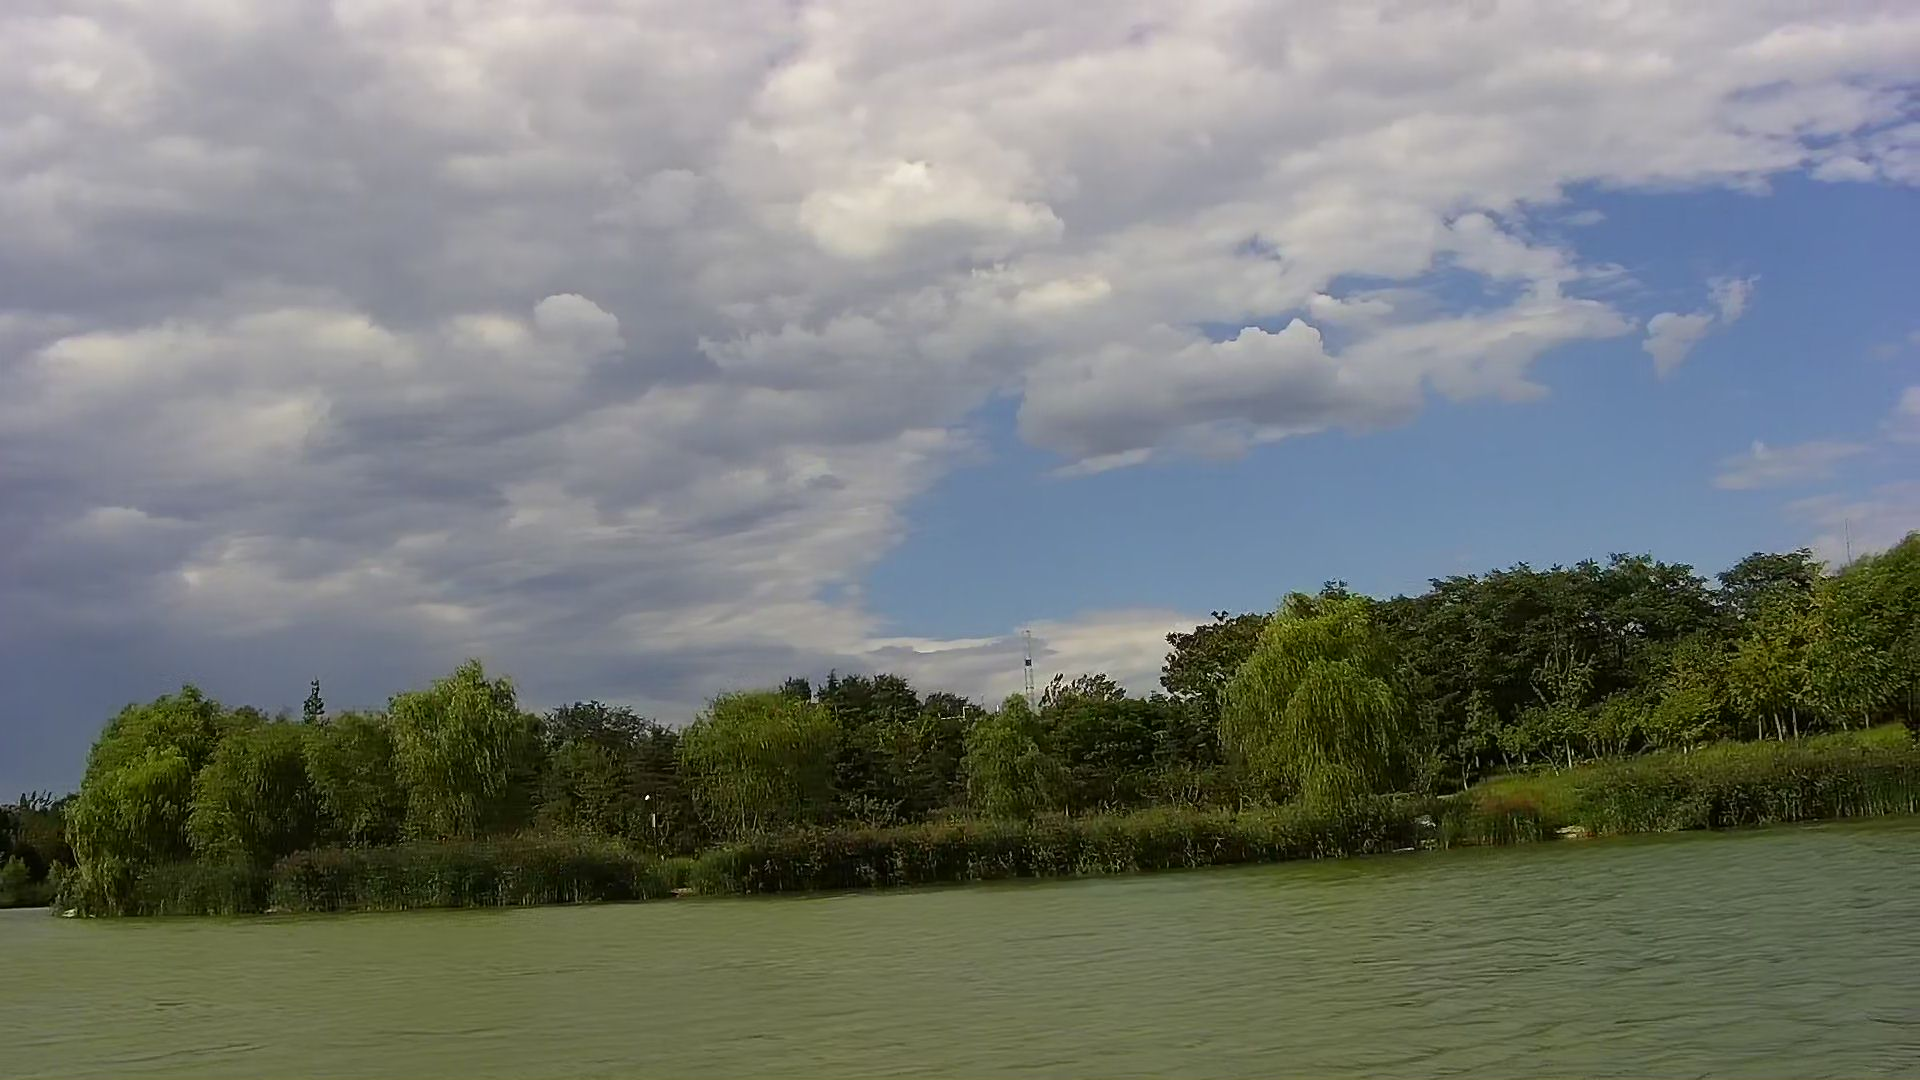rock: (1552, 822, 1592, 844)
